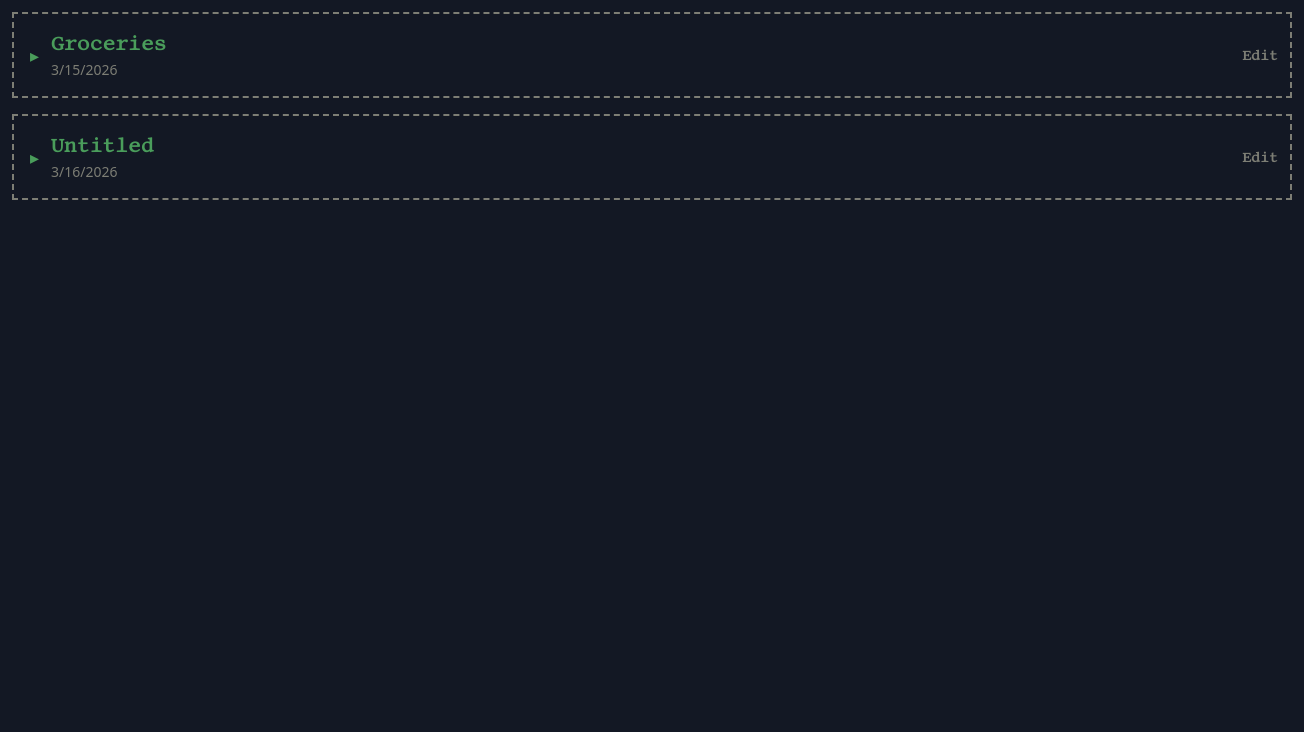
Test: NoteList › cancels an inline edit and returns to the read view
Click the button with aria-label "Edit Groceries" at x=1260, y=55, box left=1230, top=45, right=1290, bottom=65
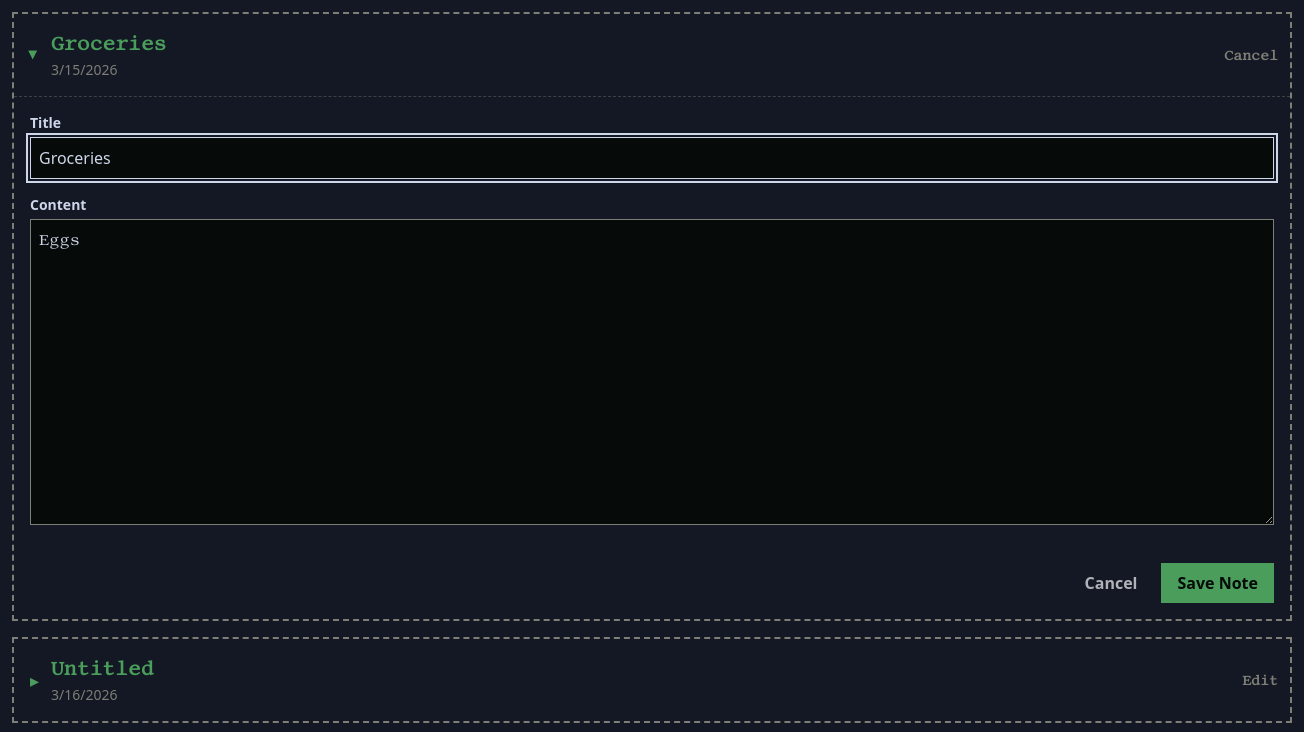
Now the button "Save Note" is shown, box left=1162, top=563, right=1274, bottom=603
Click the button with aria-label "Cancel editing Groceries" at x=1251, y=55, box left=1212, top=45, right=1290, bottom=65
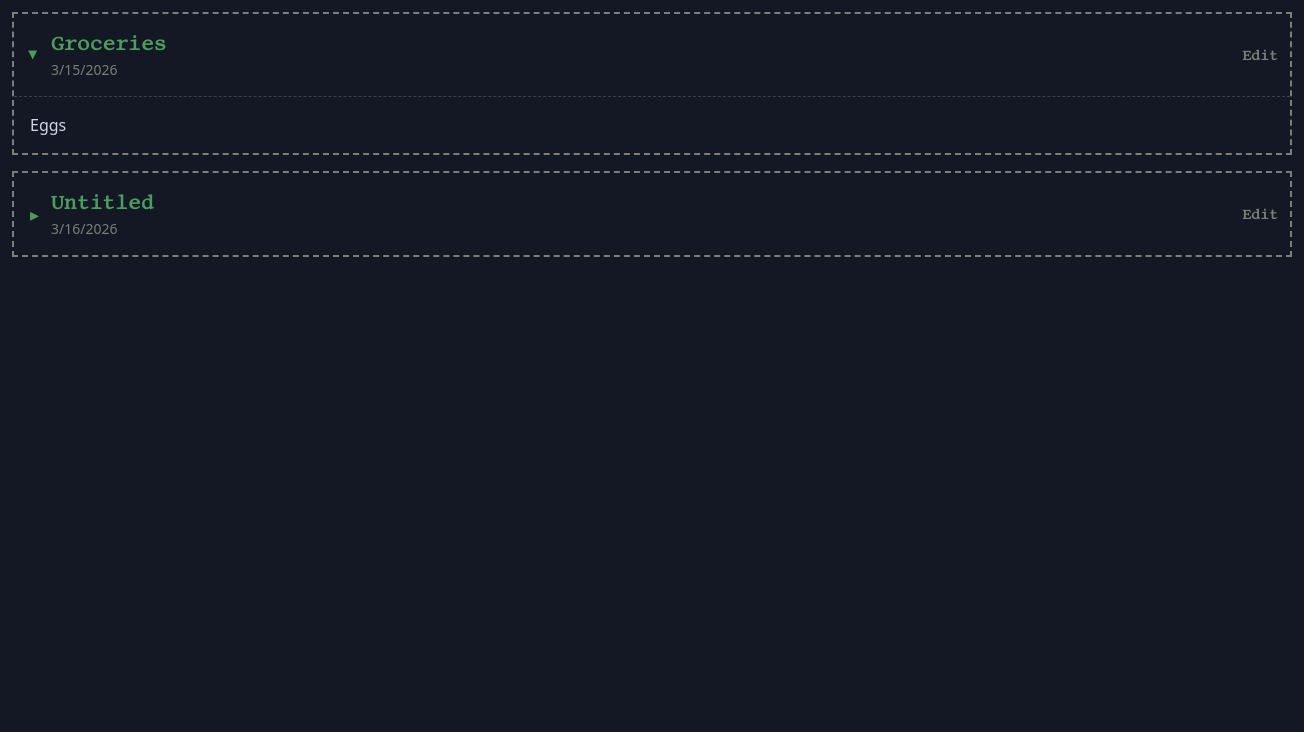
Now the button "Save Note" is gone
Now the text "Eggs" is shown, box left=30, top=114, right=66, bottom=136
